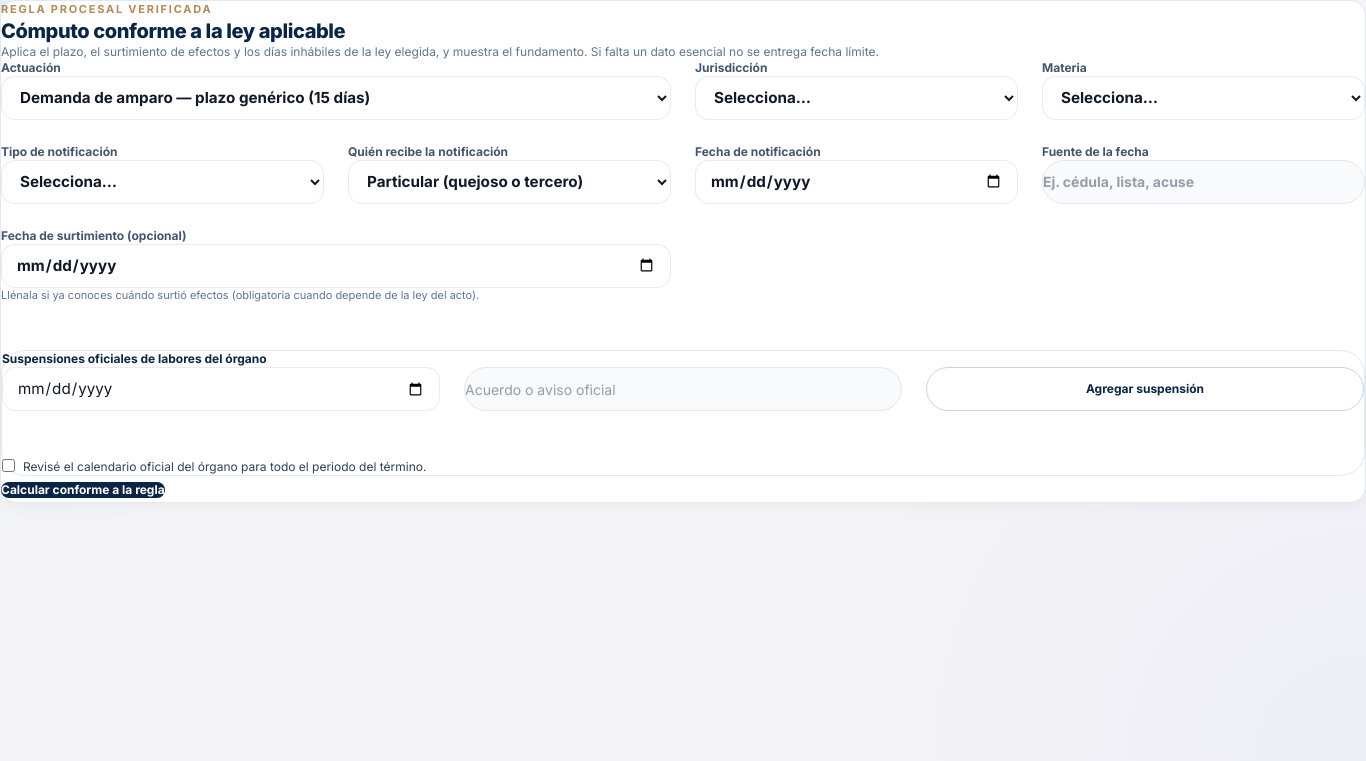
ProceduralTermCalculator › con datos completos y calendario confirmado muestra vencimiento, operación y fundamento oficial
This screenshot has width=1366, height=761.
Select "Recurso de revisión en amparo (10 días)" in the dropdown labelled "Actuación". click: (336,98)
box: [1,76,671,120]
Select "Federal" in the dropdown labelled "Jurisdicción". click: (856,98)
box: [695,76,1018,120]
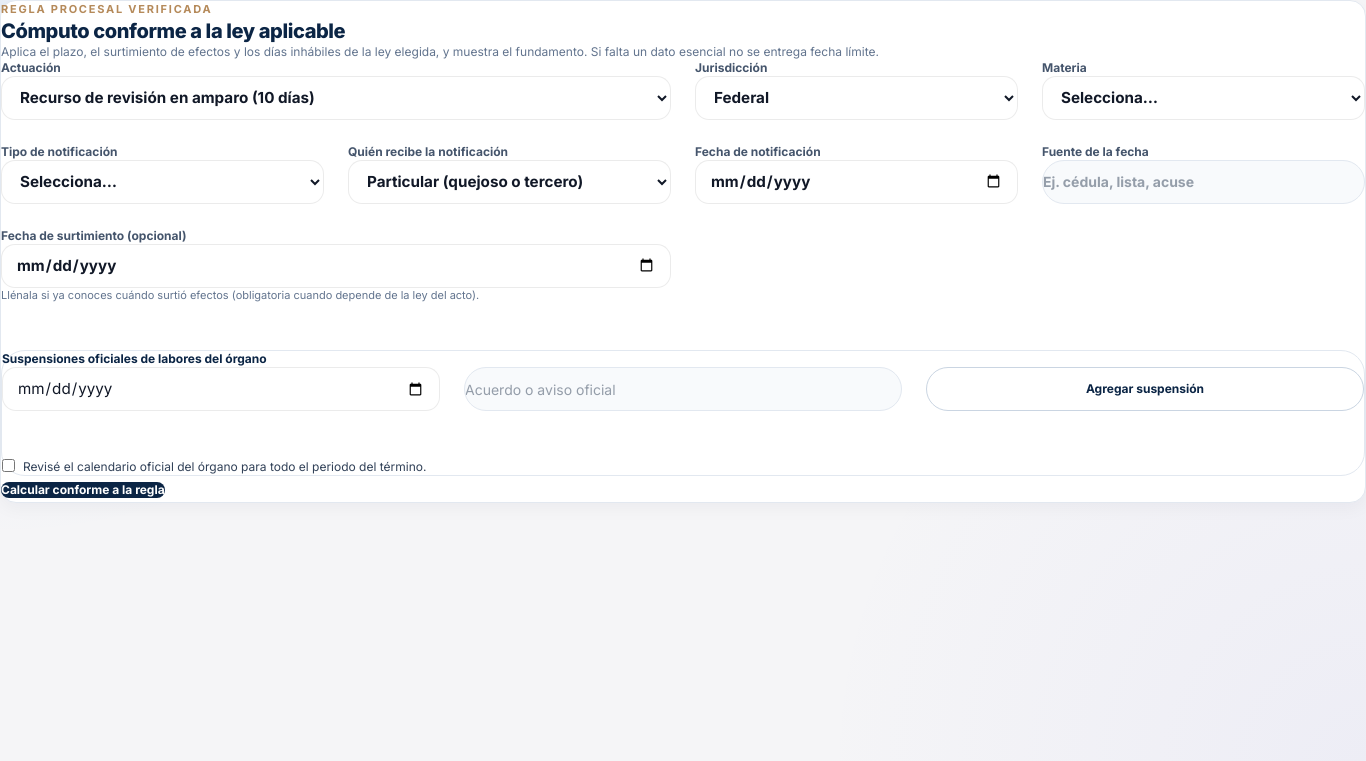
Select "Civil" in the dropdown labelled "Materia". click: (1204,98)
box: [1042,76,1365,120]
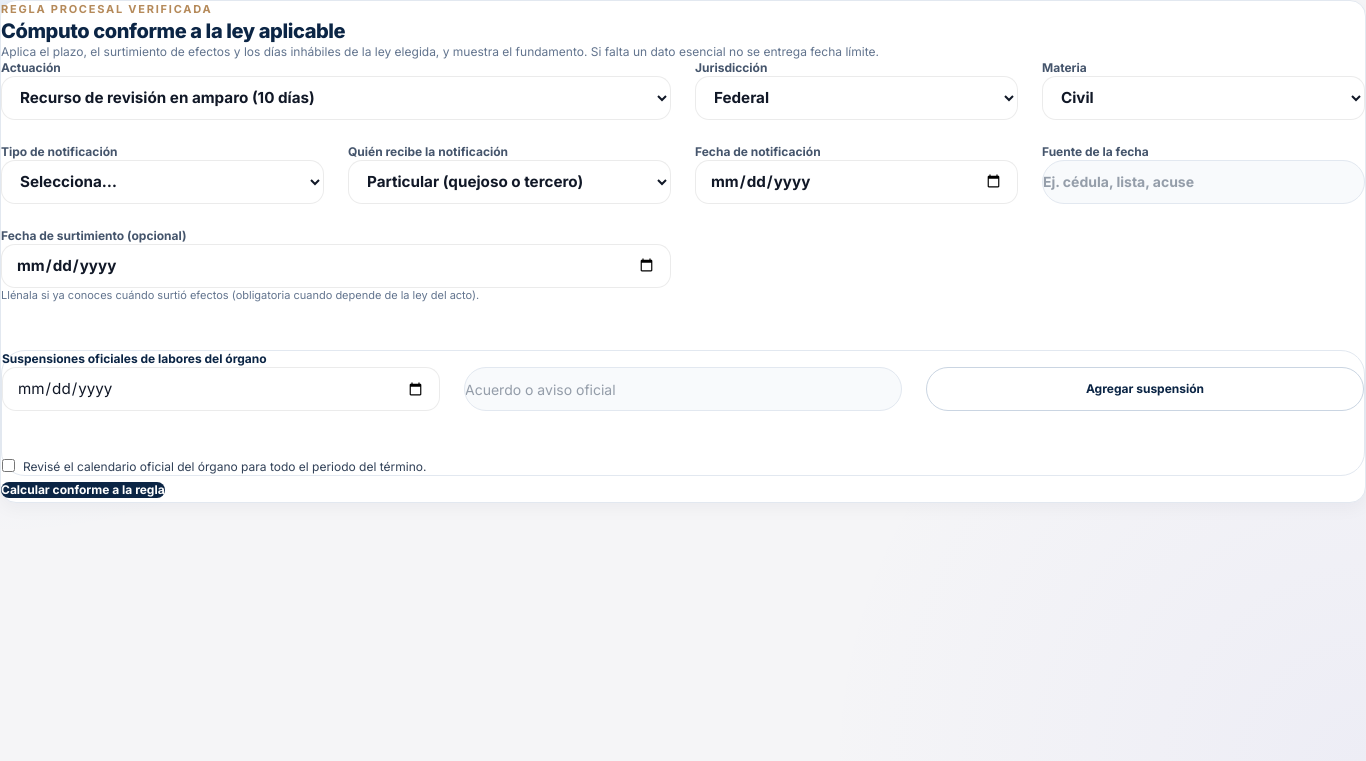
Select "Personal" in the dropdown labelled "Tipo de notificación". click: (162,182)
box: [1,160,324,204]
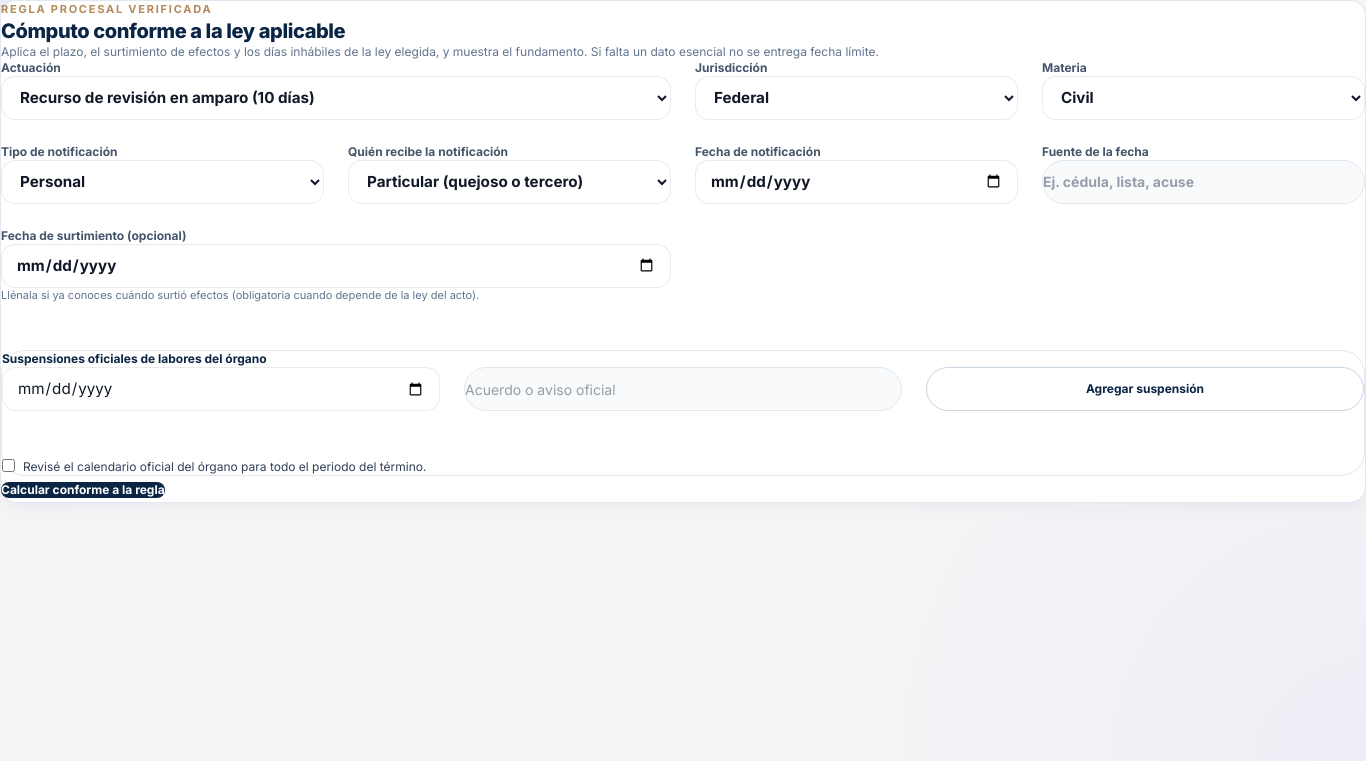
Type "2026-10-09" into the date field labelled "Fecha de notificación". click: (856,182)
box: [695,160,1018,204]
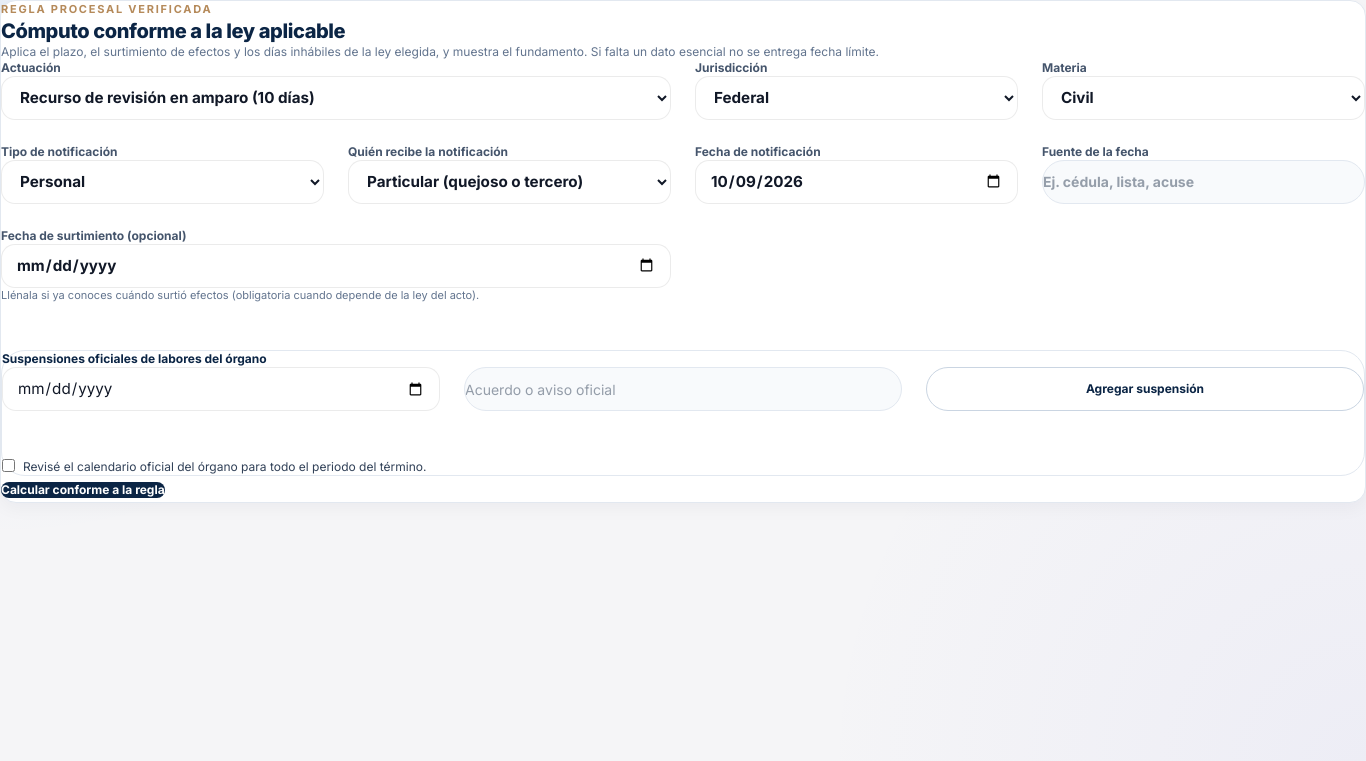
Click the checkbox labelled "Revisé el calendario oficial". click: (8,466)
box: [2,459,15,472]
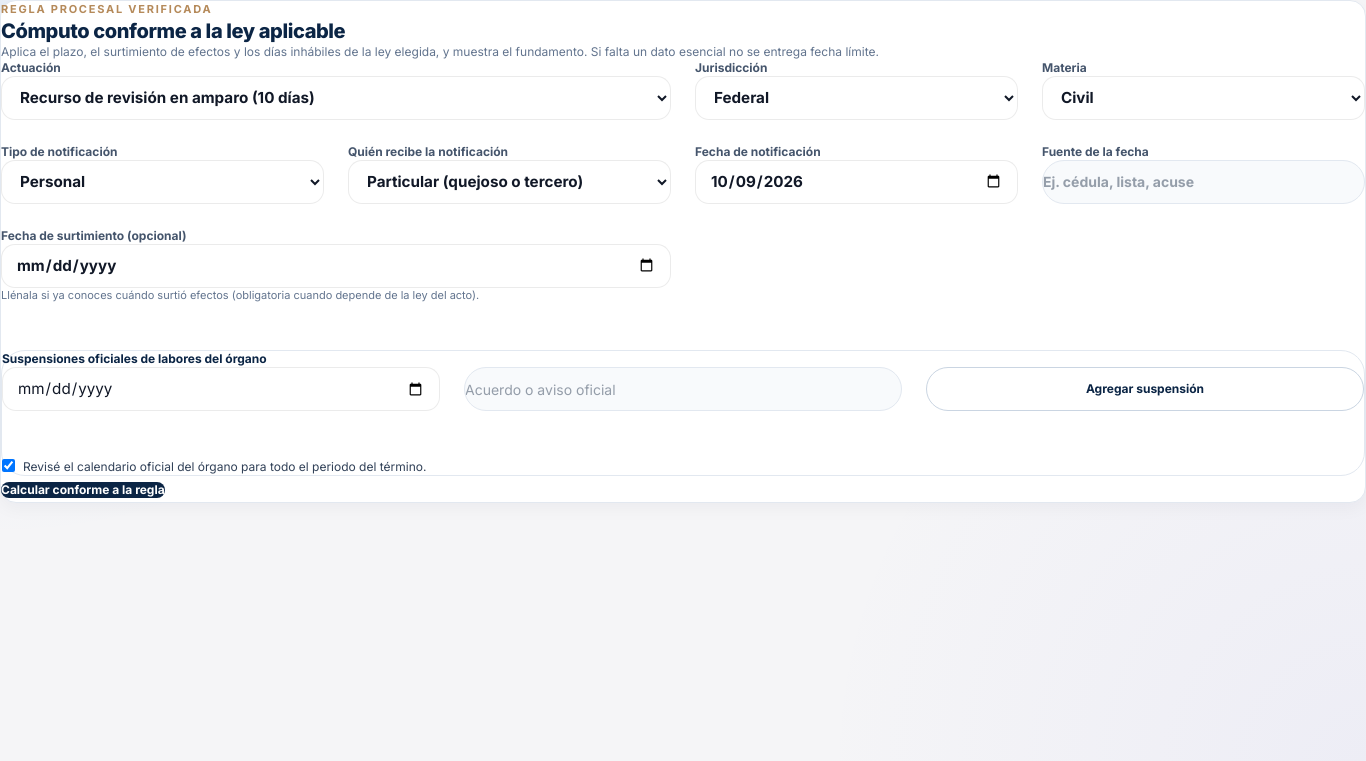
Click the button "Calcular conforme a la regla". click: (83,490)
box: [1,482,165,498]
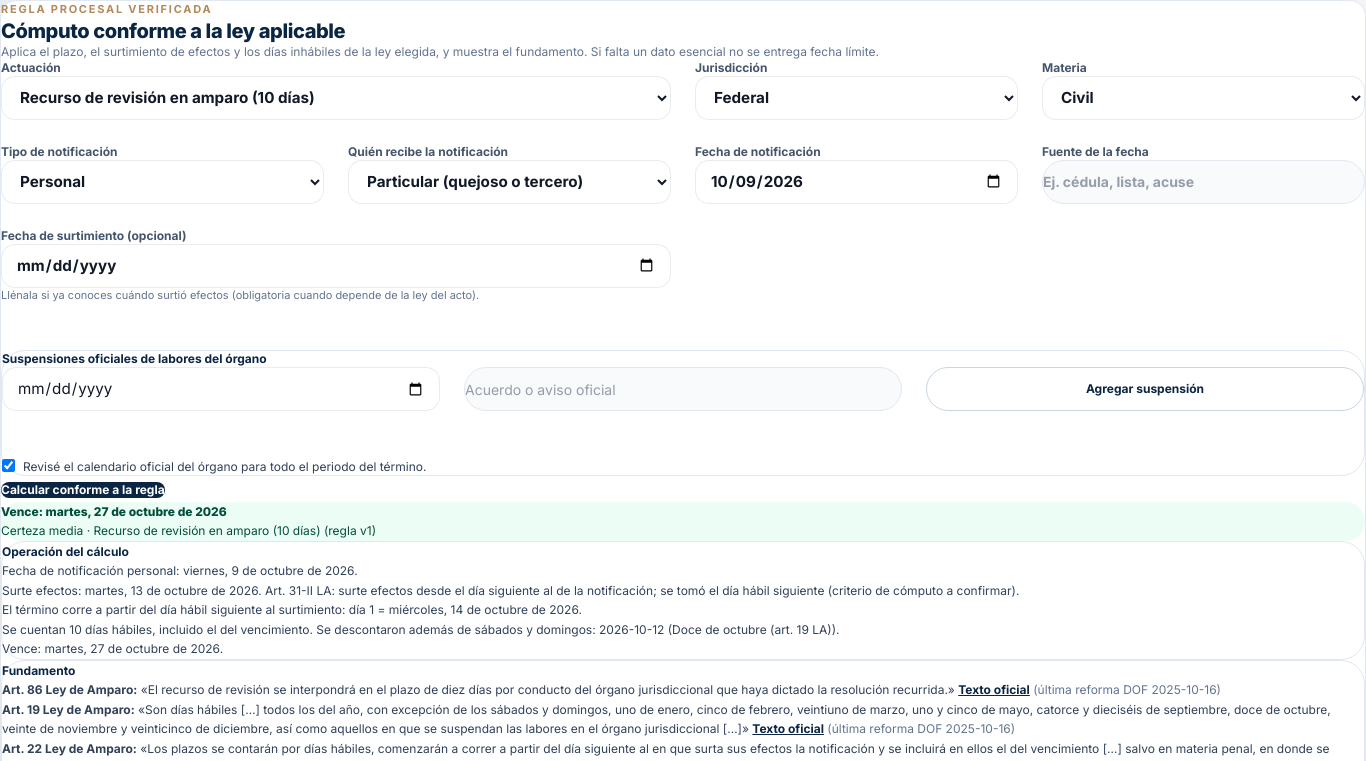
Now the text "Vence: martes, 27 de octubre de 2026" is shown, box [1,504,227,519]
Now the text "Operación del cálculo" is shown, box [2,544,129,559]
